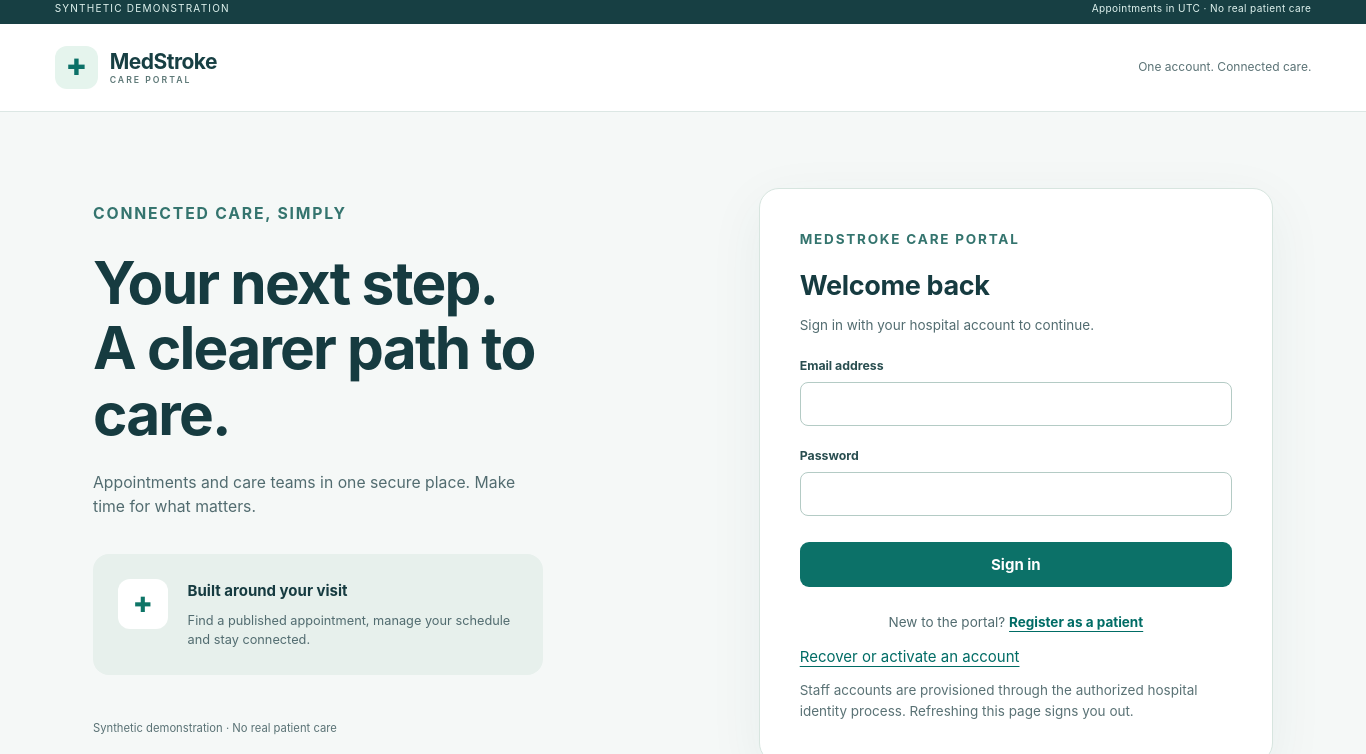
untrusted doctor names render as text and booking refreshes only after response
Type "synthetic@example.test" into the field labelled "Email address" at (1016, 404), box left=800, top=382, right=1232, bottom=426
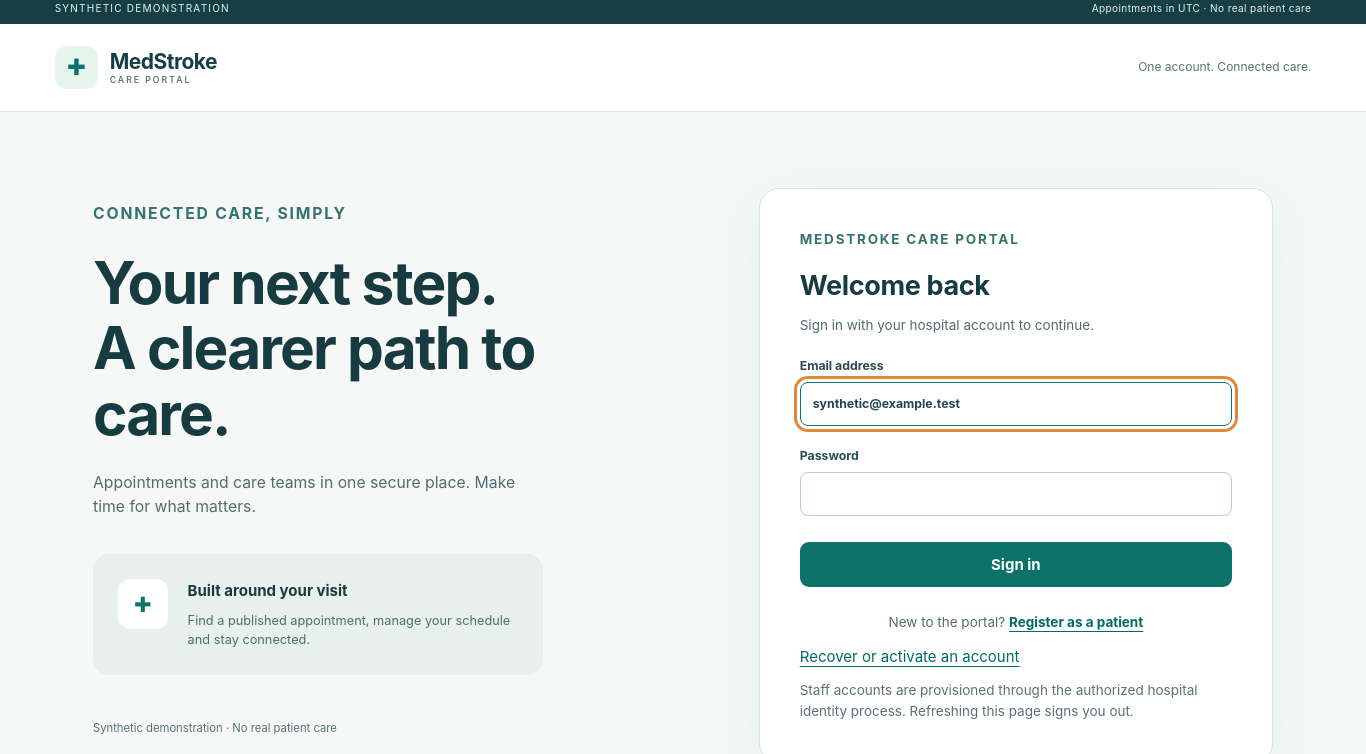
Type "Synthetic-password" into the password field labelled "Password" at (1016, 494), box left=800, top=472, right=1232, bottom=516
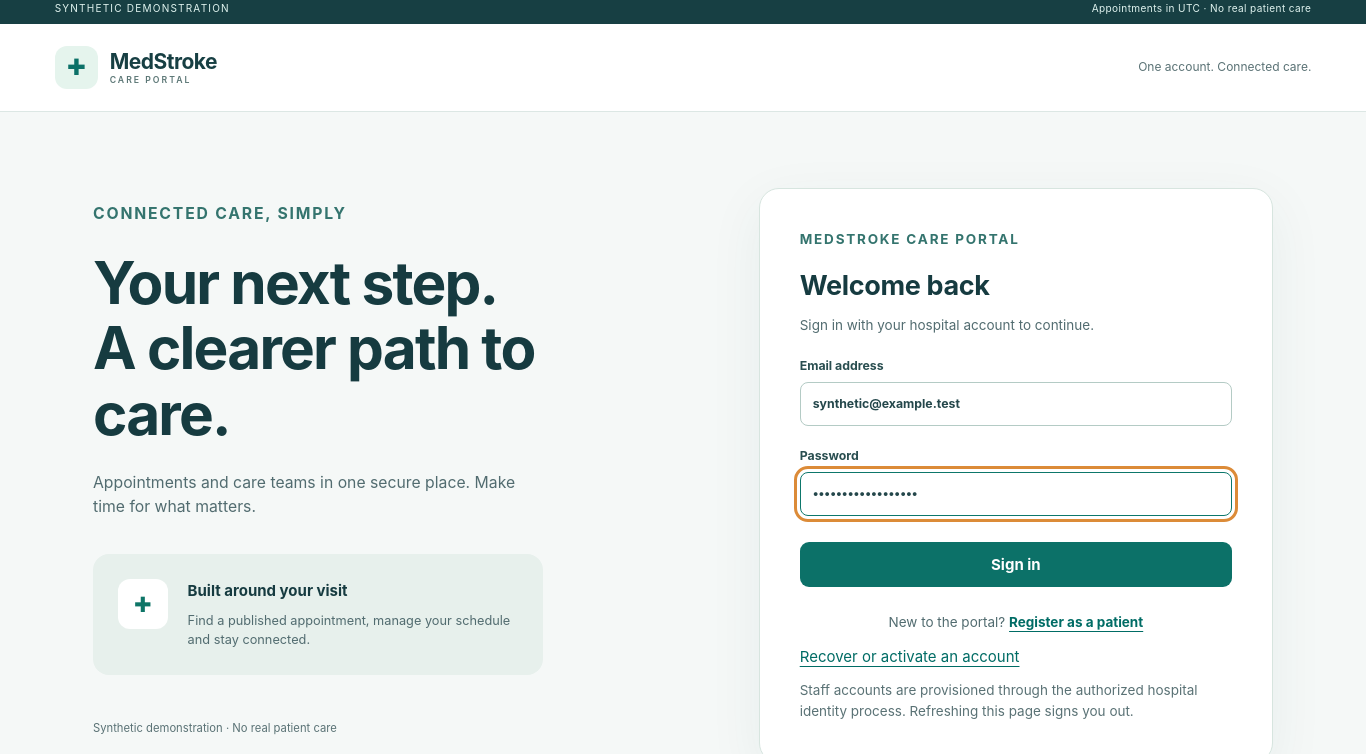
Click the button "Sign in" at (1016, 565), box left=800, top=542, right=1232, bottom=587
(page scrolled)
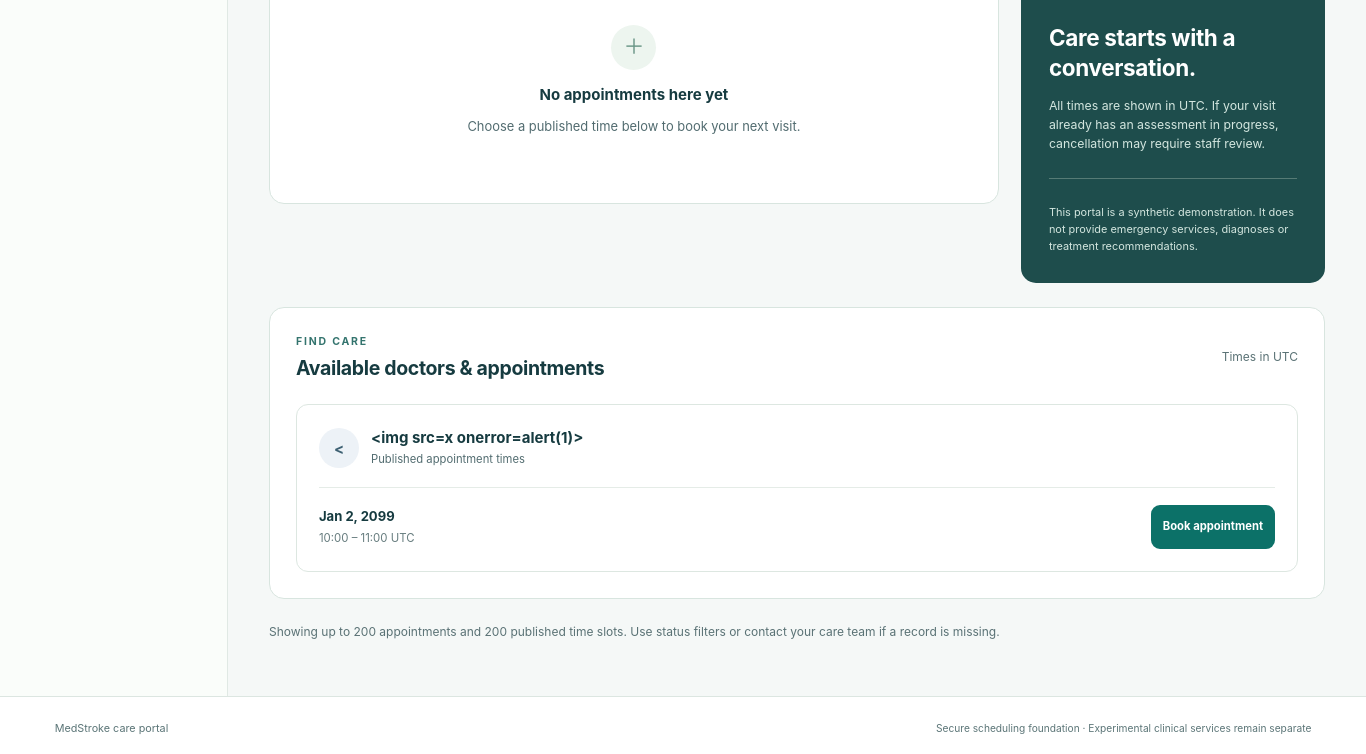
Check: the heading "<img src=x onerror=alert(1)>" is shown, box left=371, top=428, right=583, bottom=448
Click the button "Book appointment" at (1213, 527), box left=1151, top=505, right=1275, bottom=549
(page scrolled)
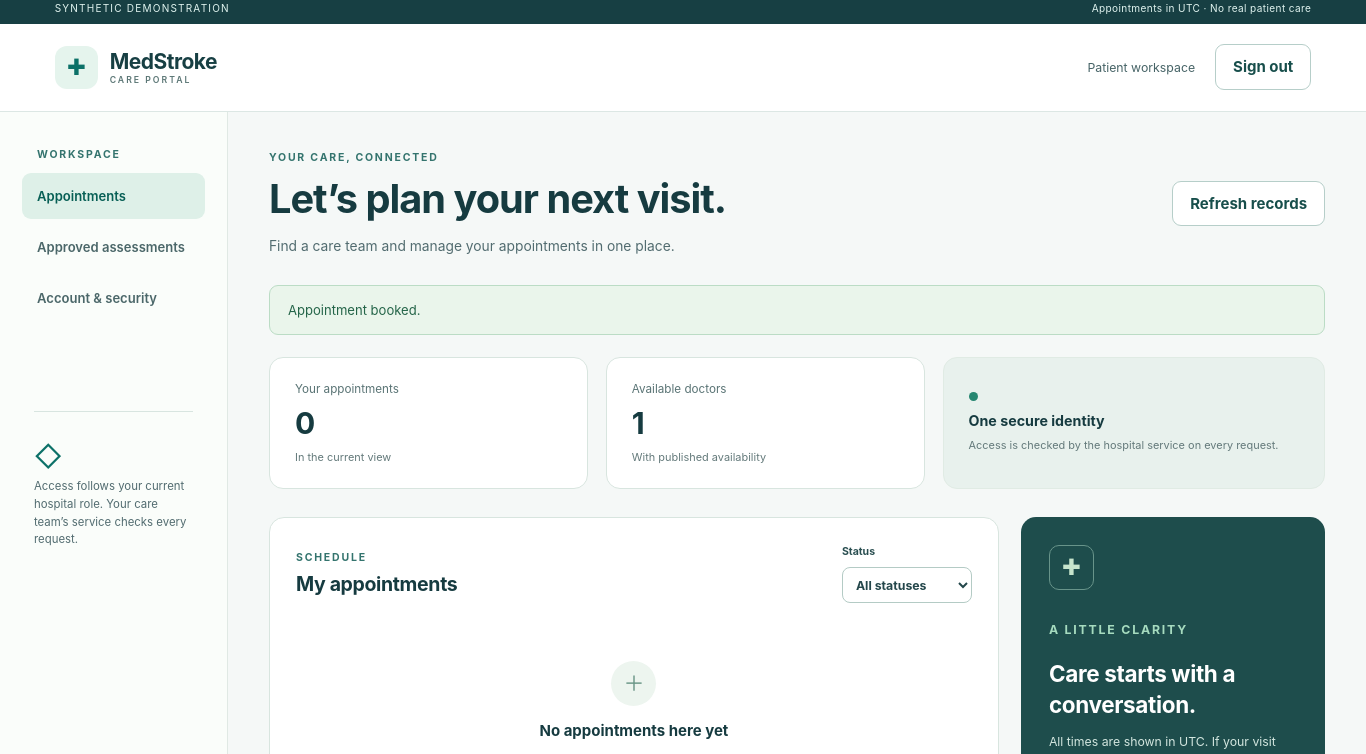
Check: the text "Appointment booked." is shown, box left=269, top=285, right=1325, bottom=335
